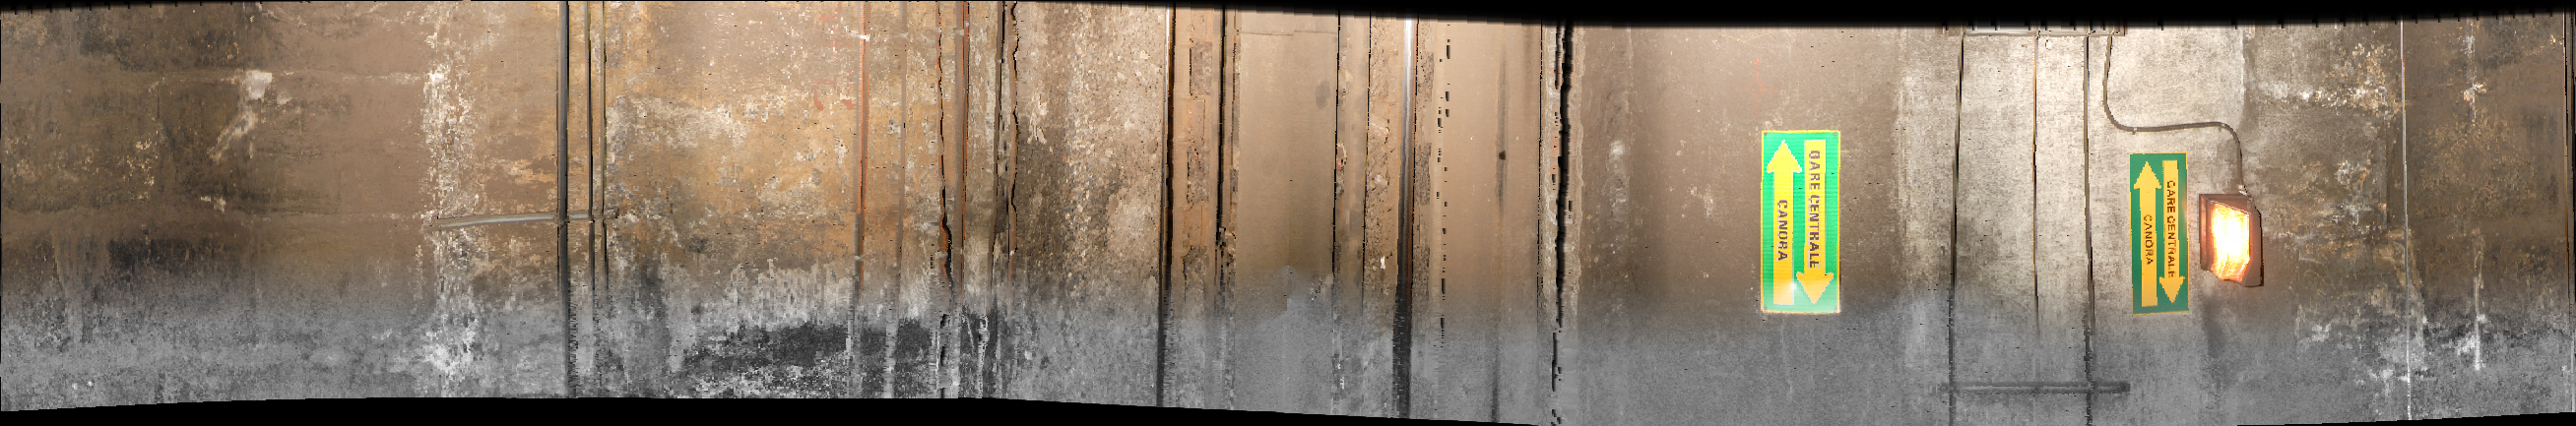light: (2203, 188, 2269, 292)
pipes: (854, 2, 1022, 426), (550, 2, 613, 424), (2395, 16, 2423, 426)
sign: (1756, 129, 1840, 319), (2134, 157, 2193, 310)
tracks: (1142, 11, 1577, 426)
